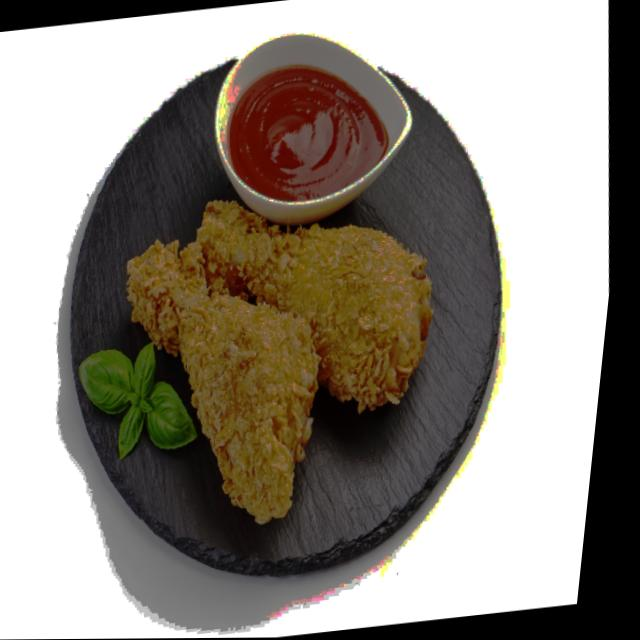fried_chicken: (92, 172, 463, 534)
ketchup: (209, 46, 405, 211)
